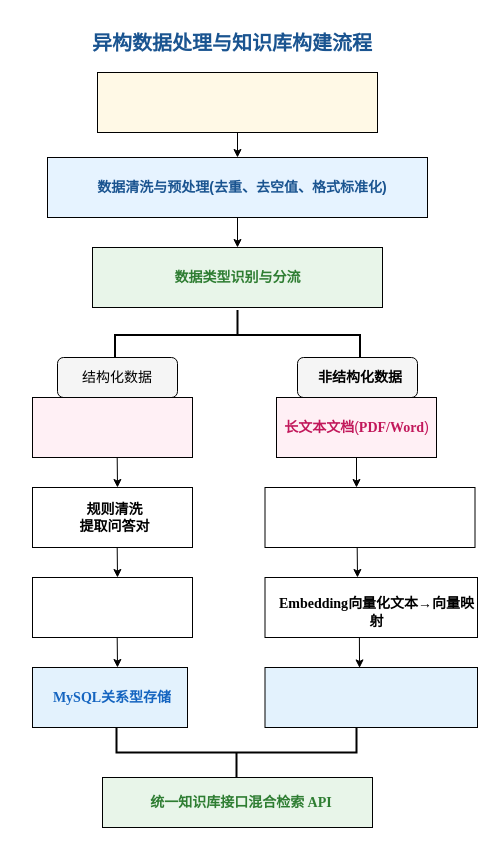
Image size: 495x845. Some labels were removed from this diagram. The box of each missing label's shape, as (x1, y1, x2, y2) in pixels:
BM25 关键词索引 倒排索引构建: (32, 576, 192, 638)
FQA 问答对 ( Excel/CSV ): (32, 396, 192, 458)
Milvus 向量数据库: (264, 666, 478, 728)
原始教育数据( Excel/CSV/PDF/Word ): (96, 72, 378, 132)
语义分块切分 RecursiveCharacterTextSplitter: (264, 486, 475, 548)
